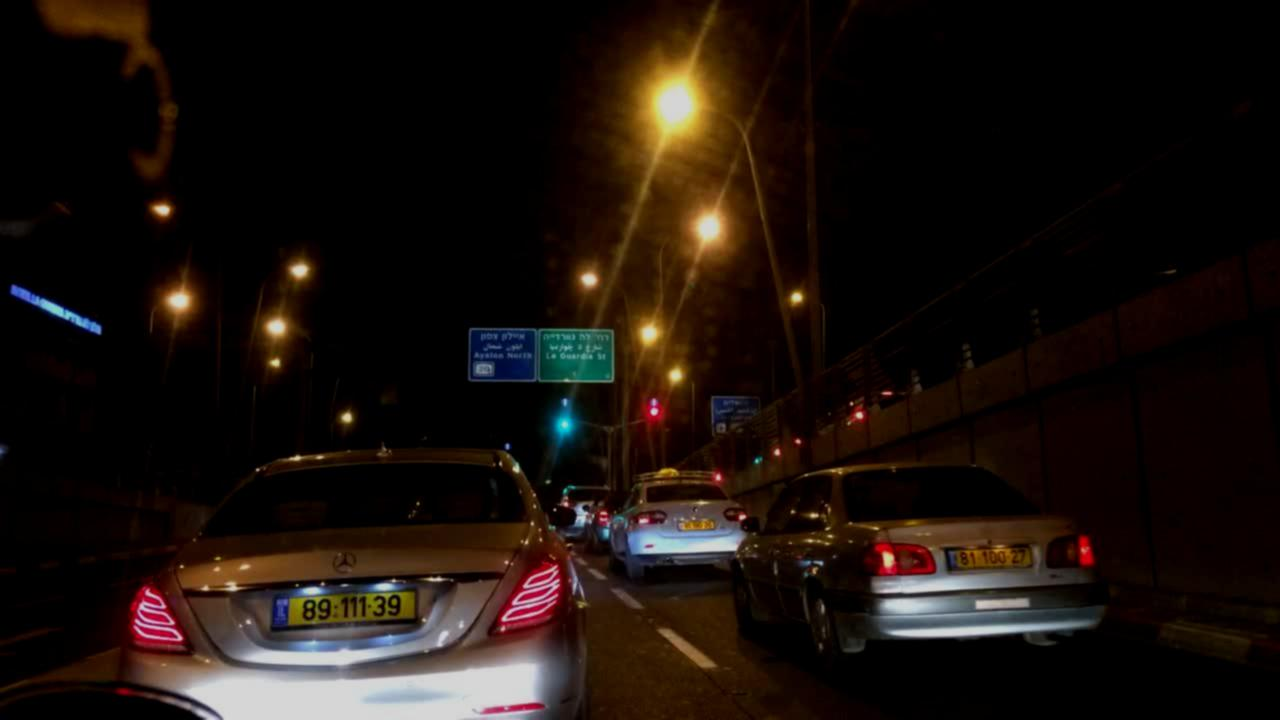Mercedes: (329, 546, 360, 577)
